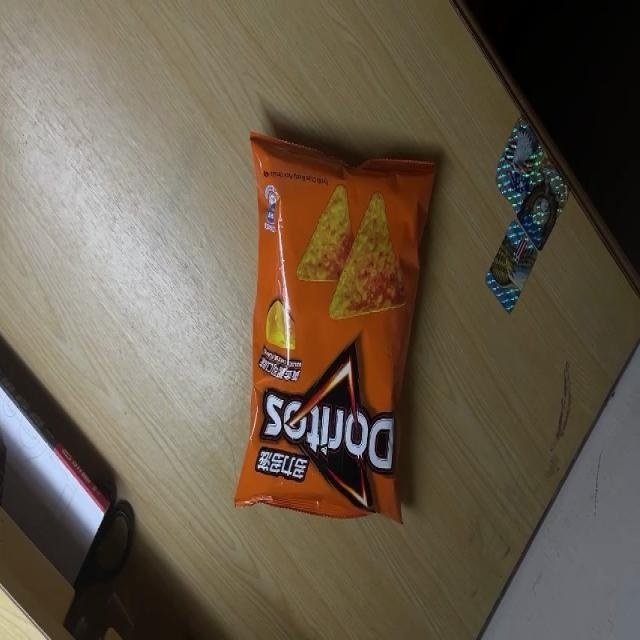Doritos: (235, 133, 438, 535)
